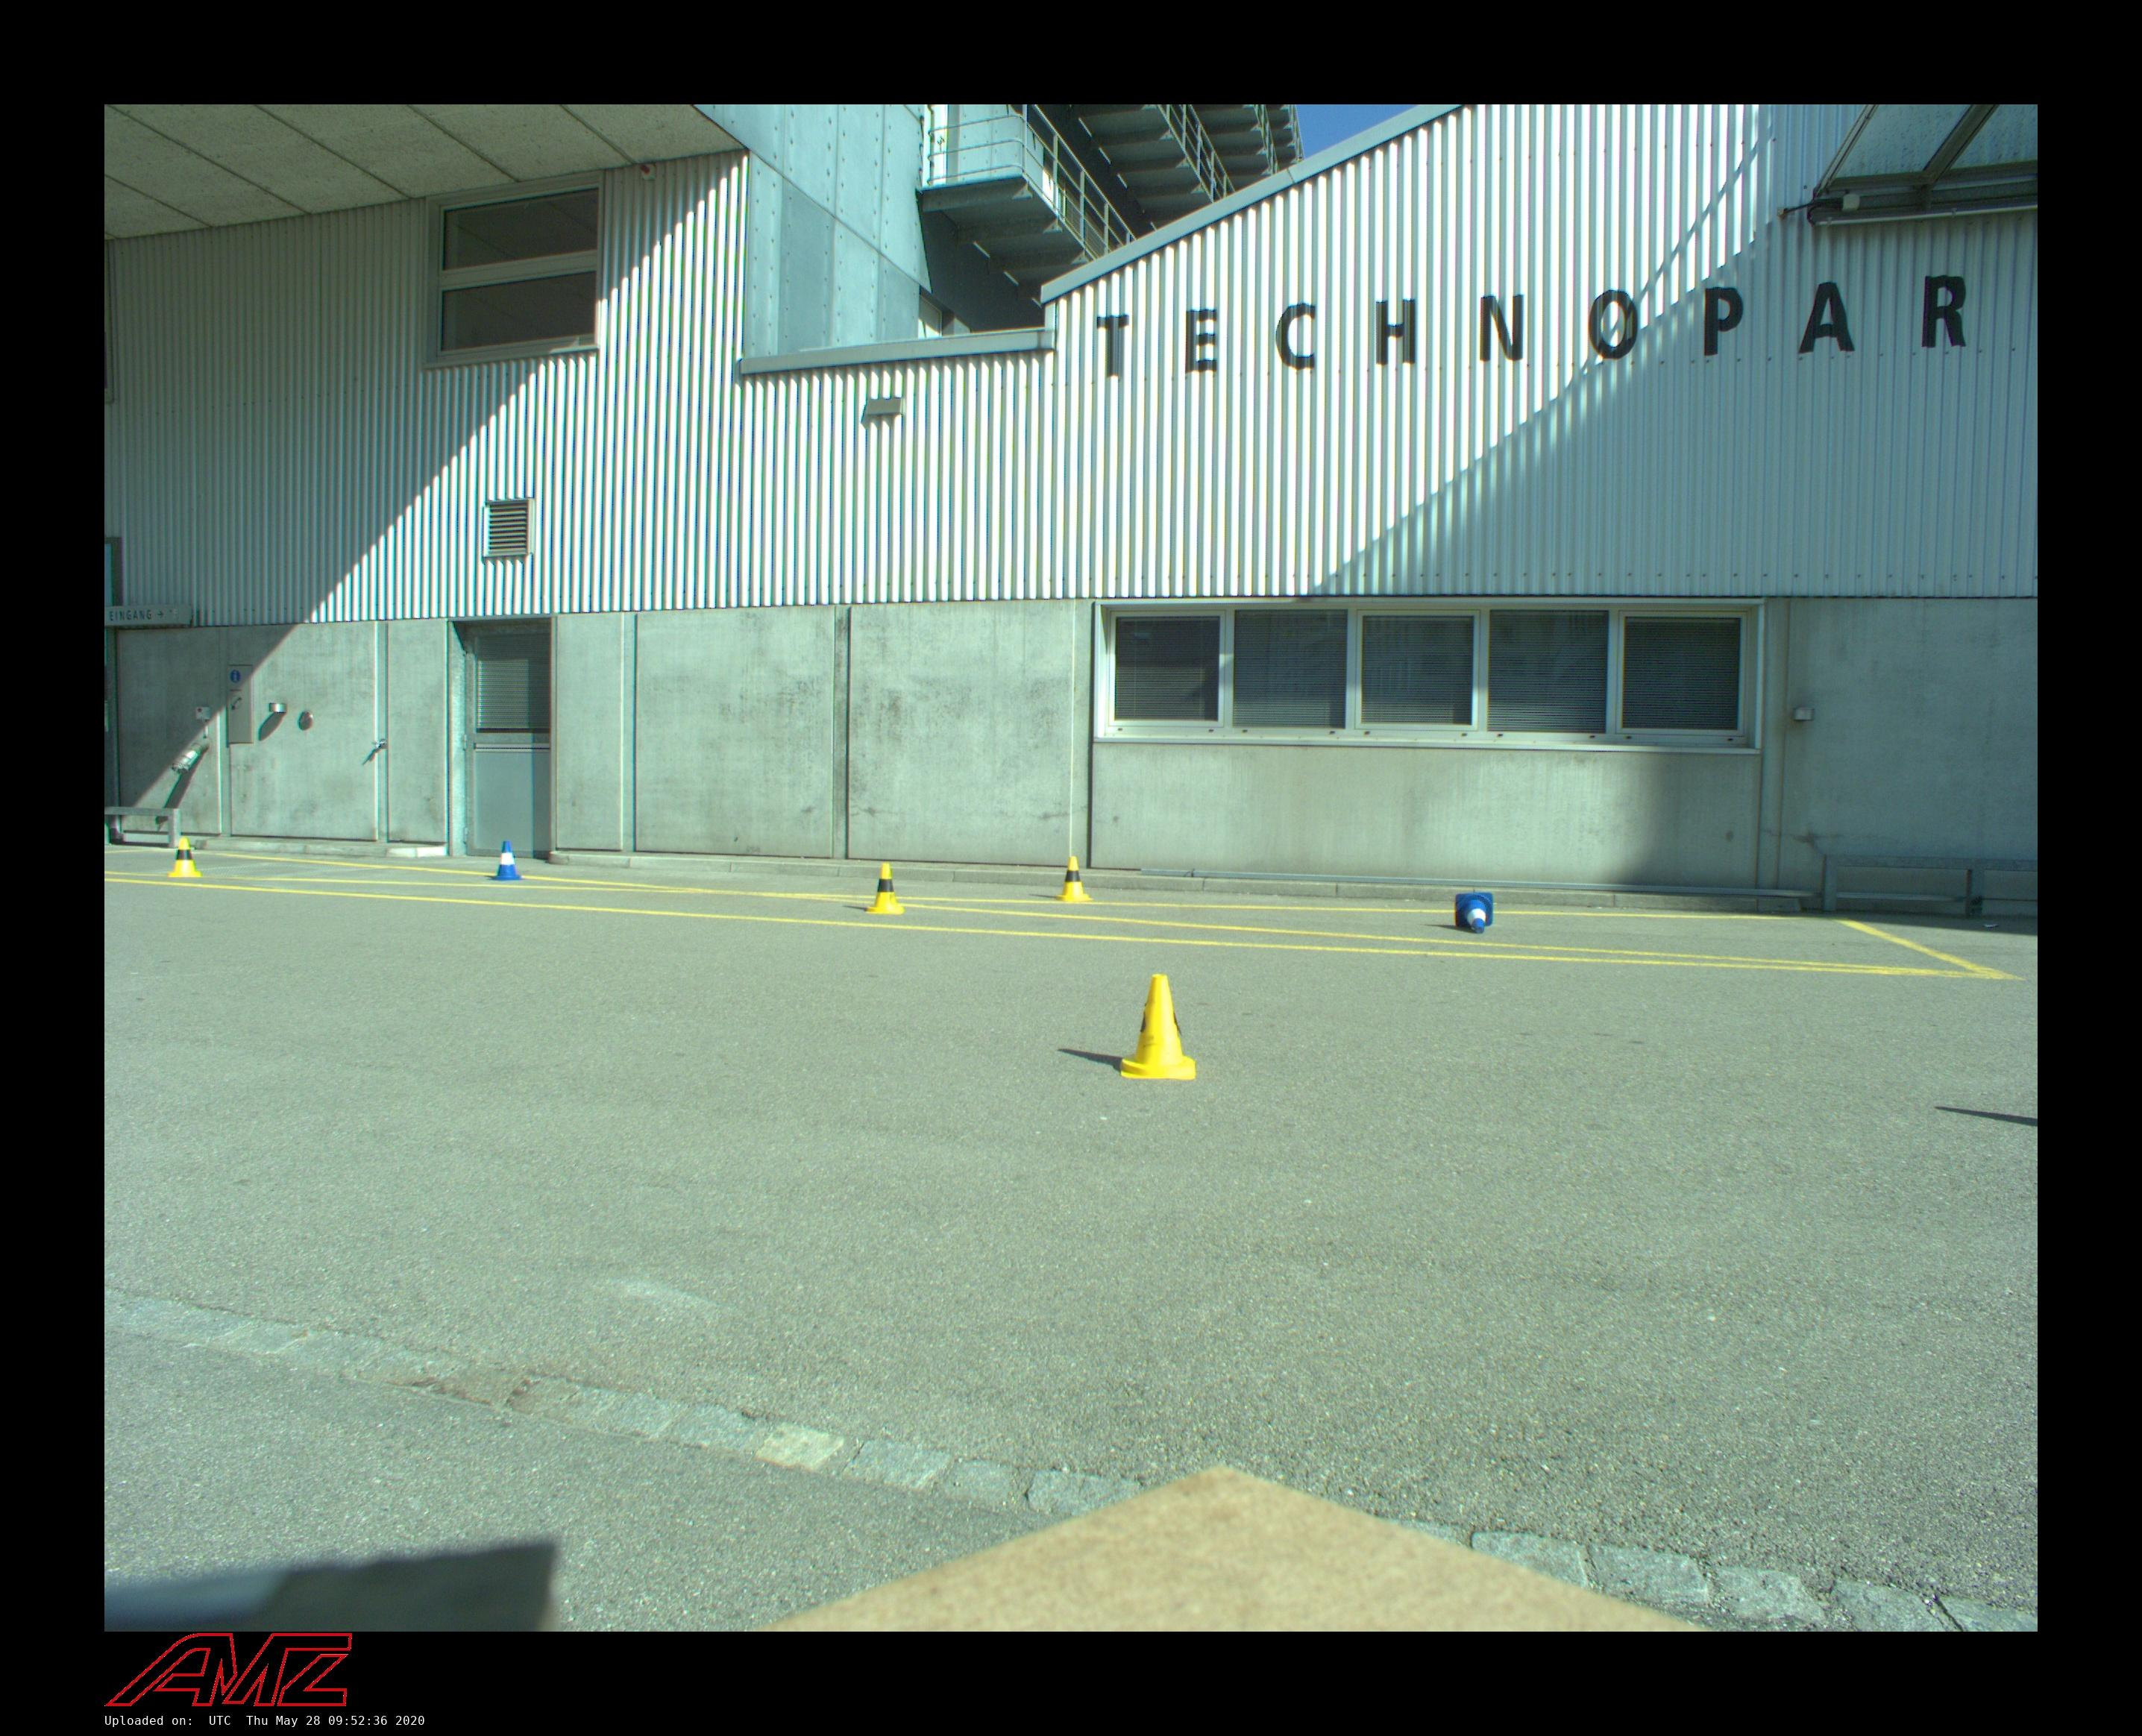blue_cone: (1455, 893, 1494, 934), (487, 841, 524, 880)
yellow_cone: (1120, 974, 1196, 1081), (865, 863, 904, 914), (1052, 856, 1093, 902), (168, 838, 200, 877)
